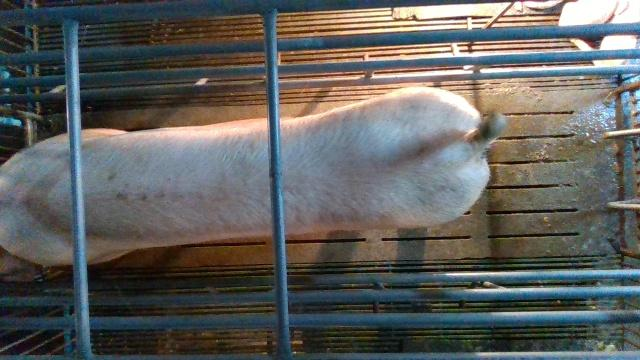piglet: (571, 0, 640, 67), (558, 0, 626, 42)
sow-stand-feed: (1, 84, 508, 277)
